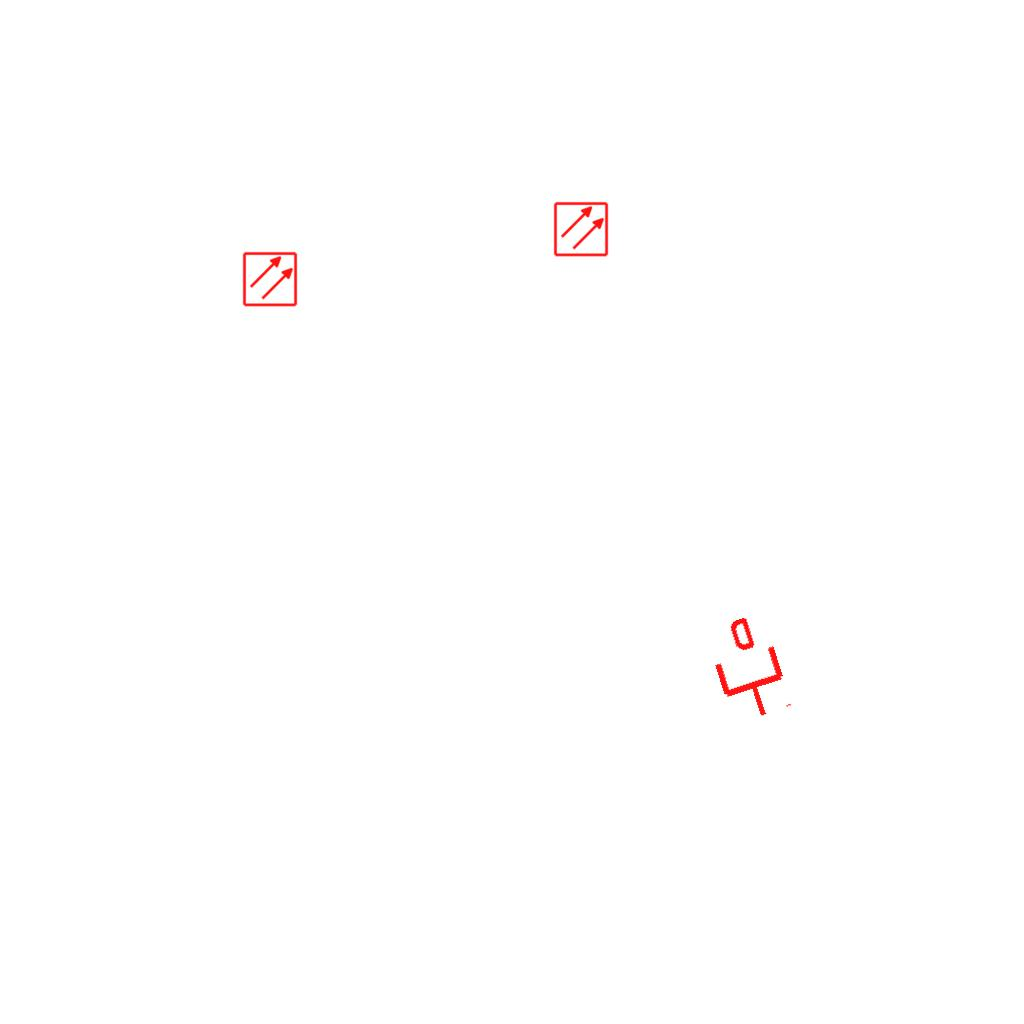Datenanschluss_einfach: (700, 610, 797, 728)
RMO_Rauchmelder_optischer: (242, 251, 298, 307), (553, 201, 609, 257)
